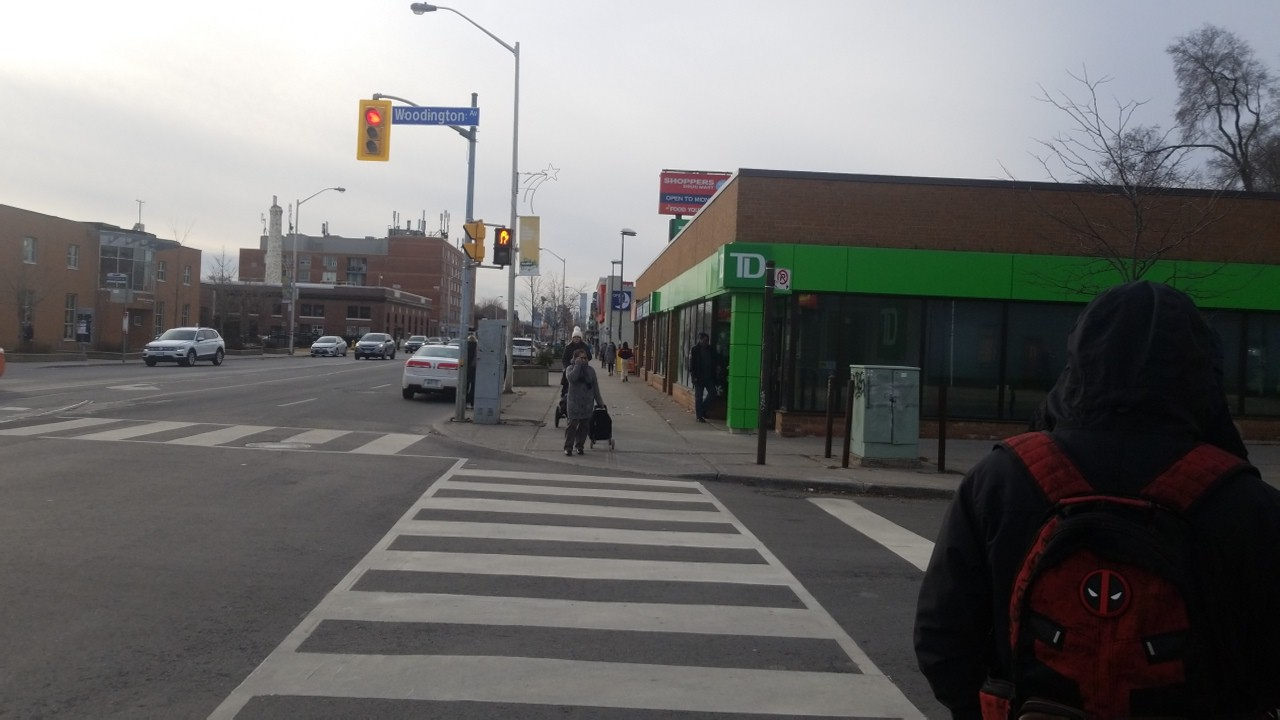light: (491, 225, 515, 267)
